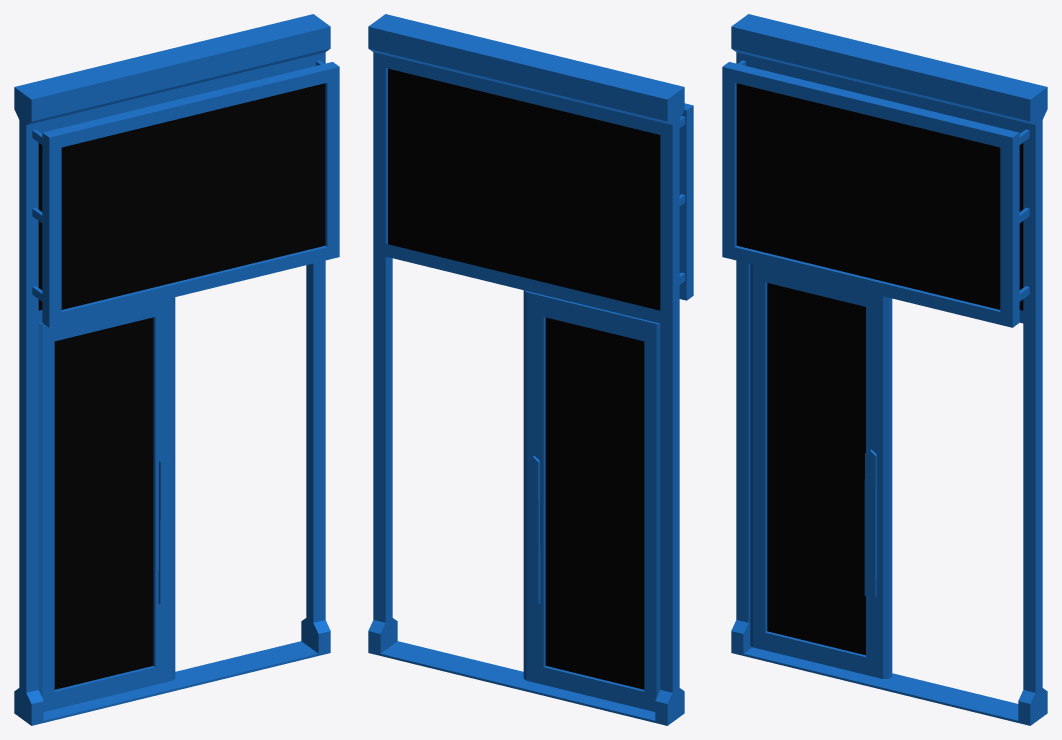
The model's file is SM_wall_with_doors.fbx.
3 views of the same model, side by side, from view 1: azimuth 30°, elevation 25°; view 2: azimuth 150°, elevation 25°; view 3: azimuth 330°, elevation 25° (orthographic).
Visible parts, largest first — view 1: wall_with_doors, Boole_5; view 2: wall_with_doors, Boole_5; view 3: wall_with_doors, Boole_5.
Boxes of the visible parts, x1=… form: wall_with_doors: x1=14, y1=14, x2=339, y2=725; Boole_5: x1=38, y1=297, x2=175, y2=711; wall_with_doors: x1=368, y1=14, x2=693, y2=725; Boole_5: x1=523, y1=290, x2=660, y2=711; wall_with_doors: x1=722, y1=14, x2=1047, y2=725; Boole_5: x1=750, y1=264, x2=892, y2=678.
Bounding box in the file's own units: 200 × 400 × 35.49.
